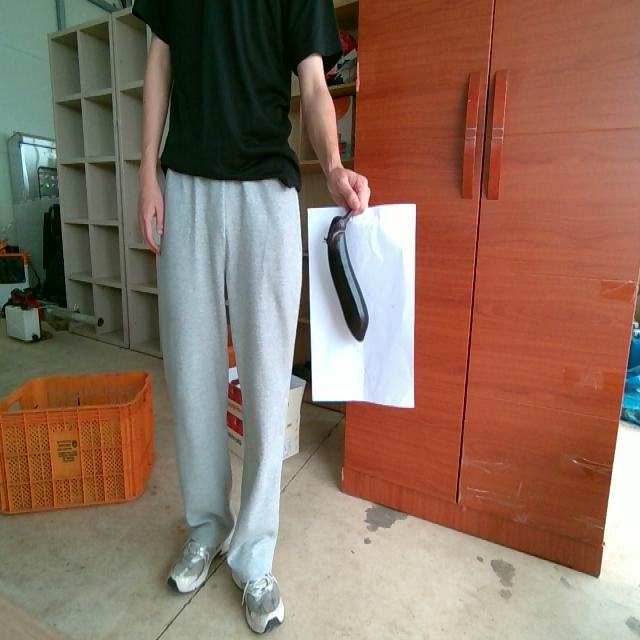Egg plant: (327, 211, 369, 340)
